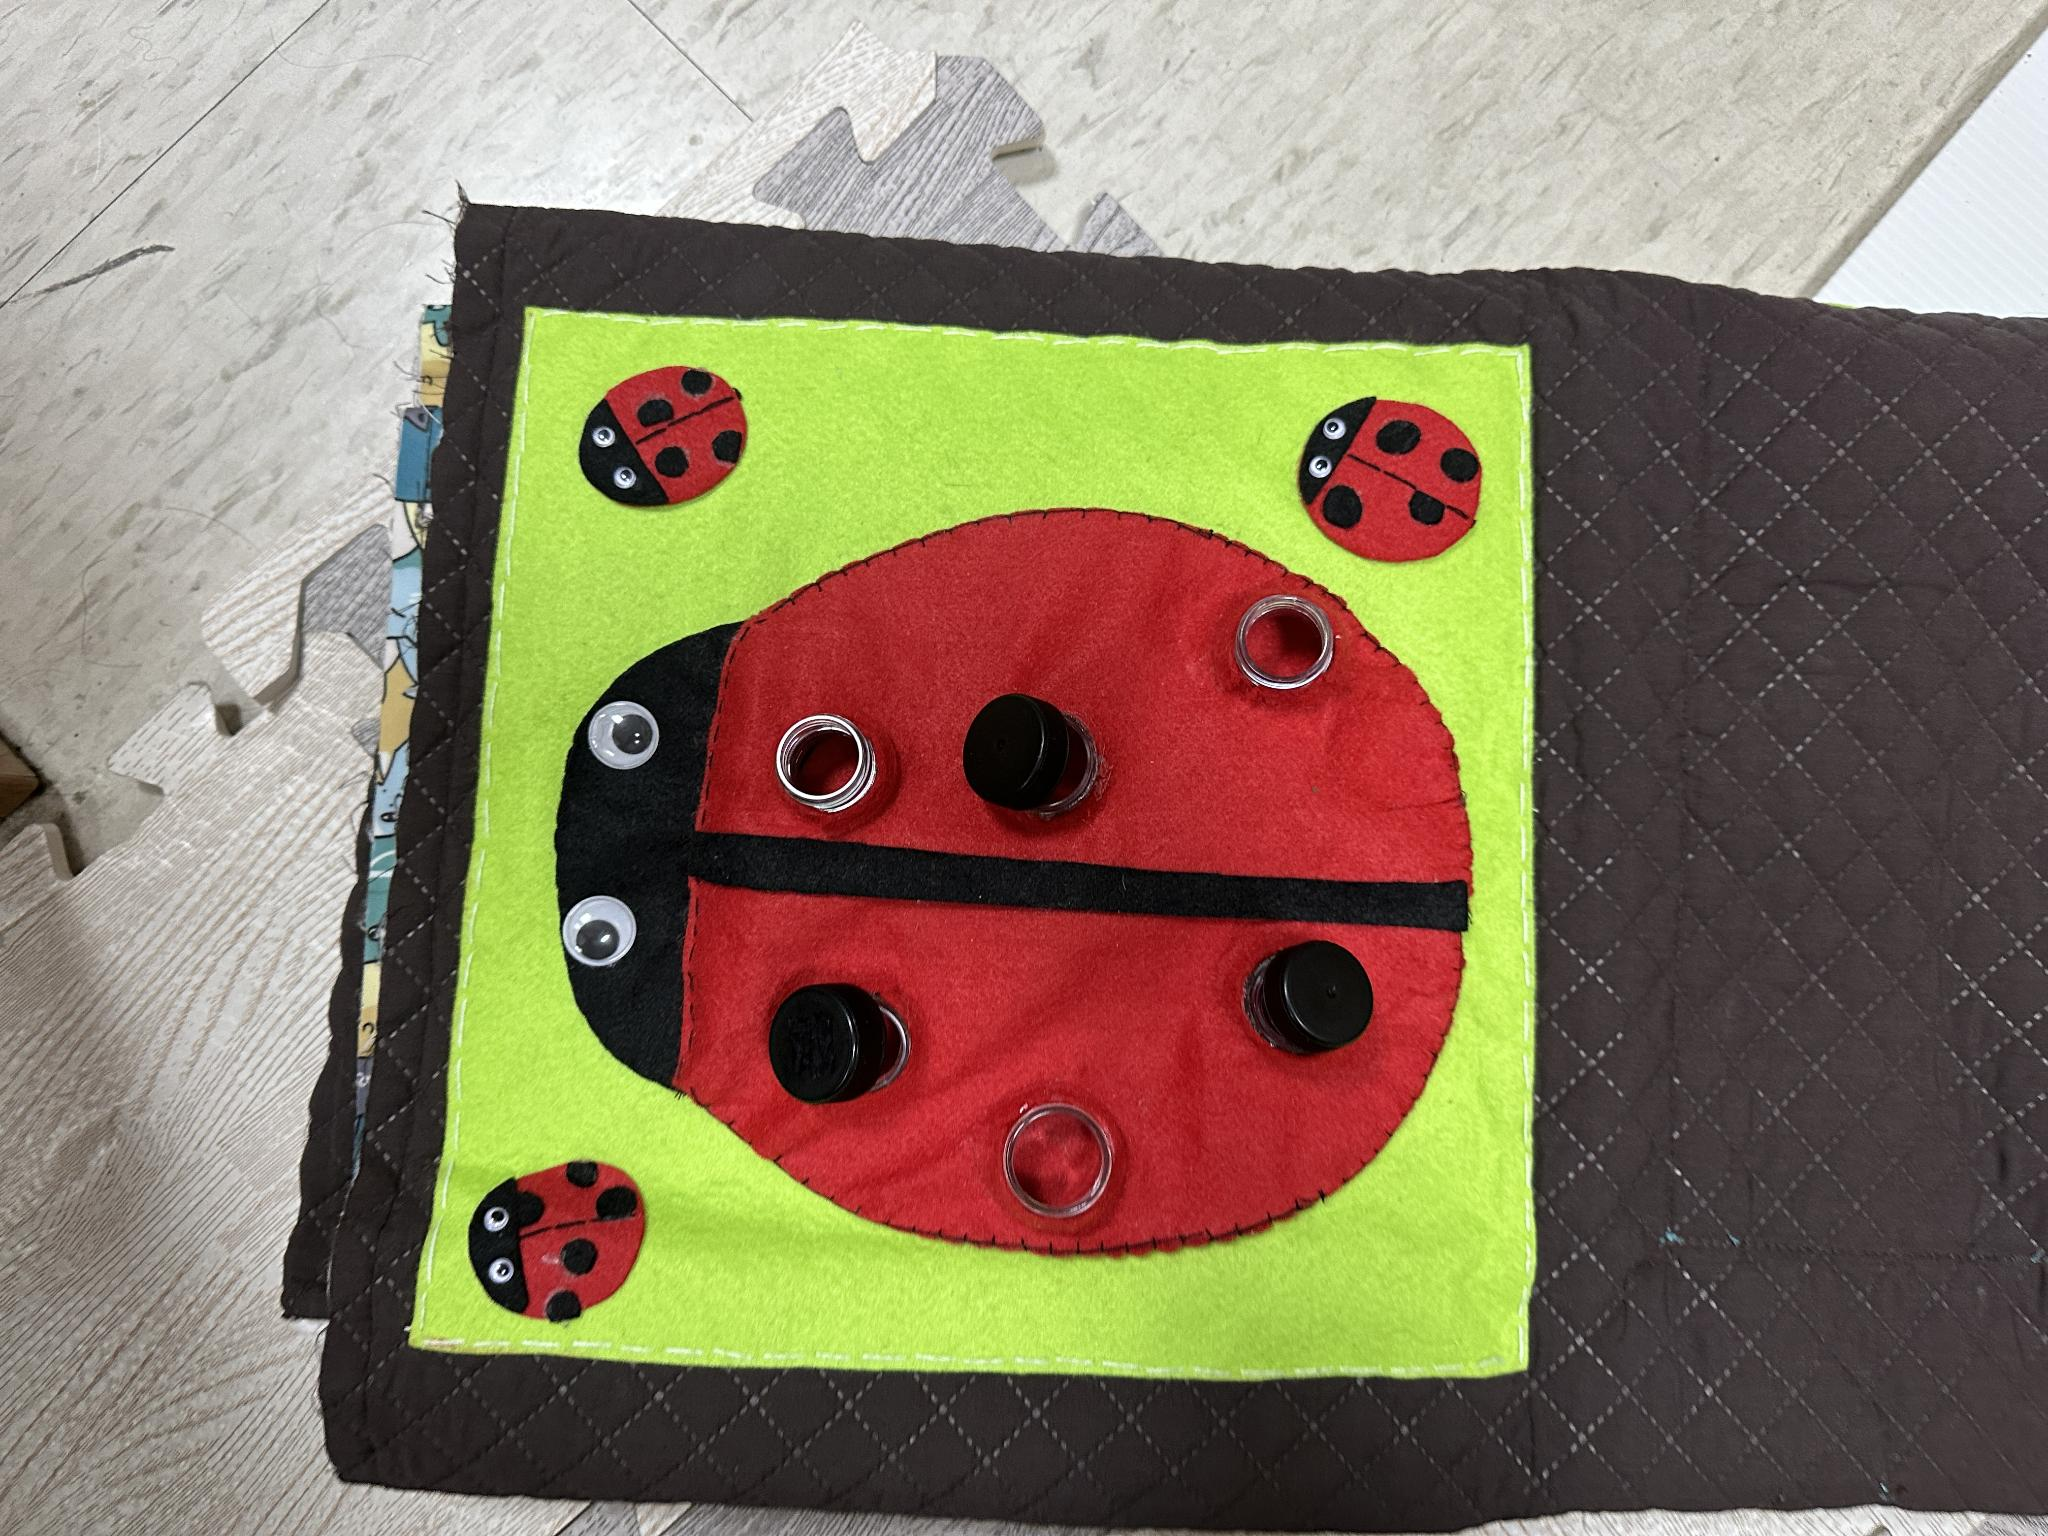cap_ng: (750, 957, 935, 1125), (945, 679, 1126, 844), (1227, 923, 1393, 1084)
